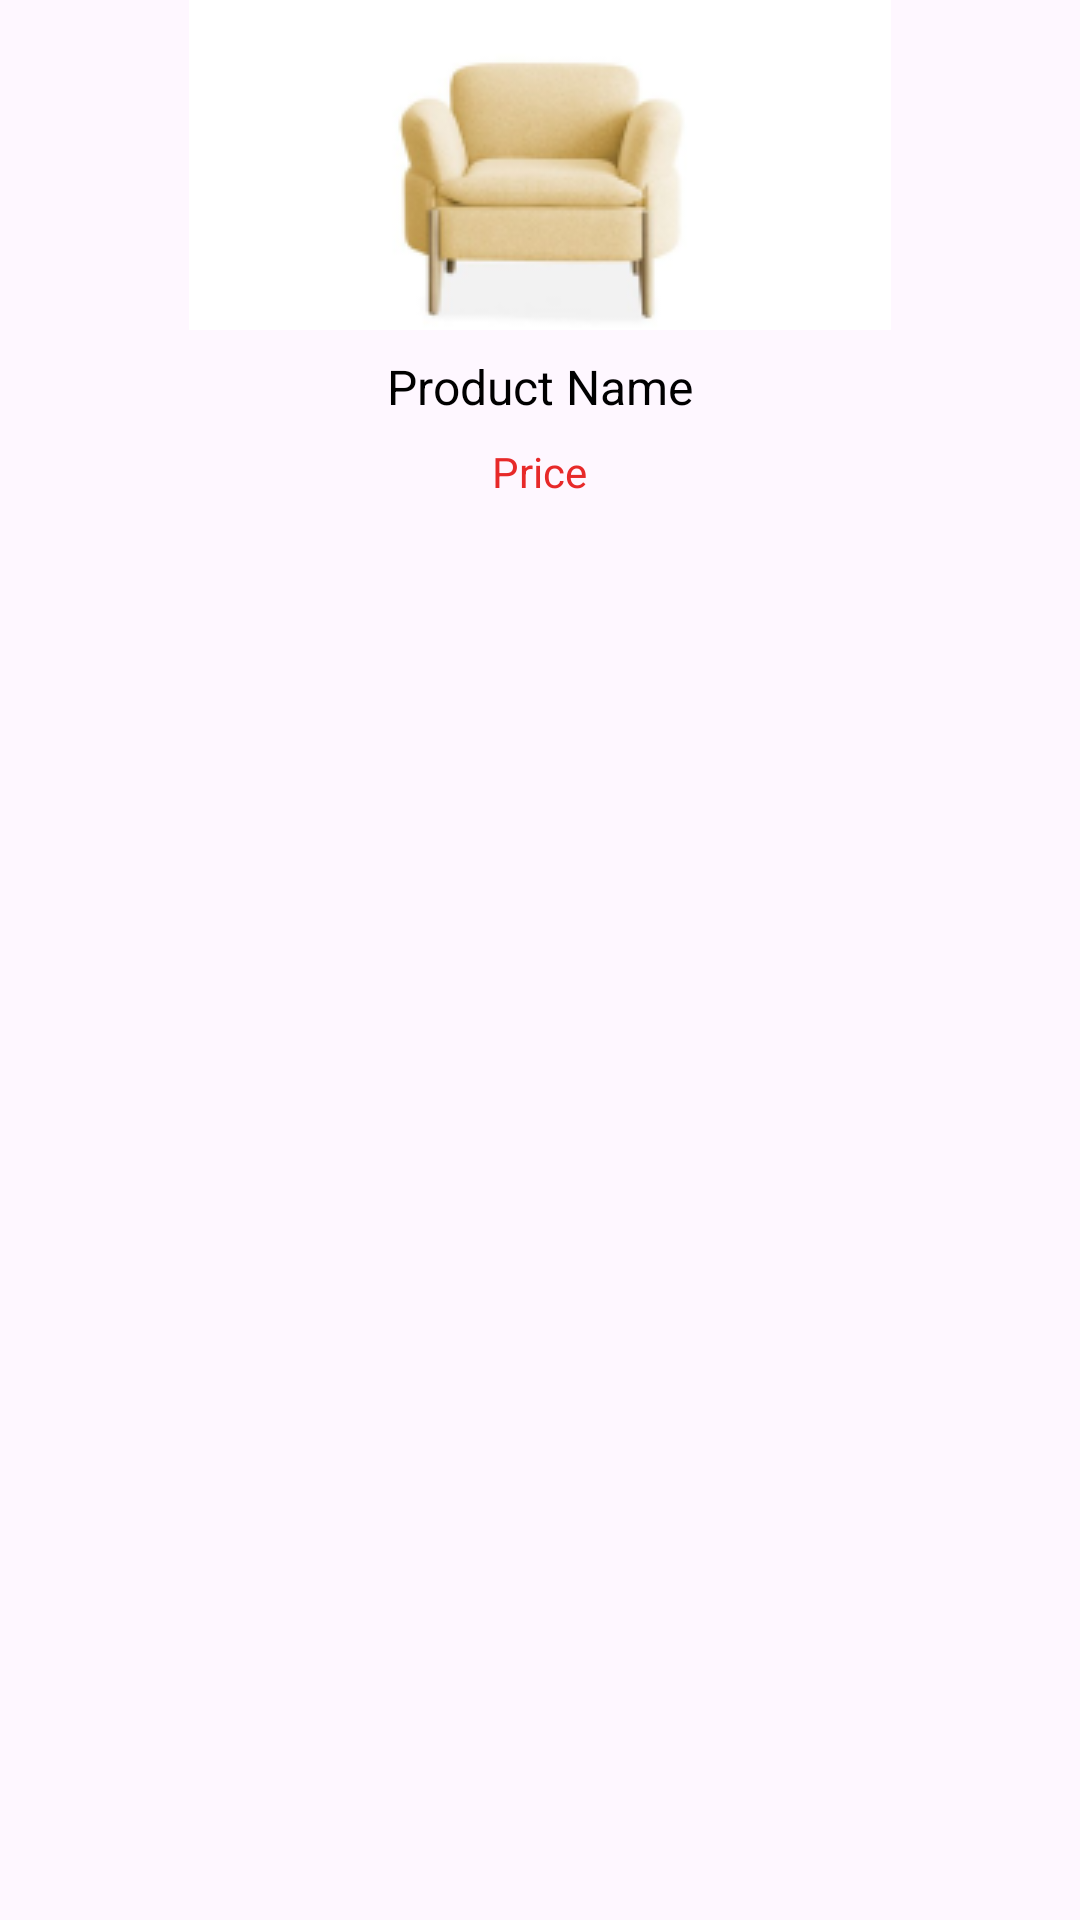

Icons on this 1080 × 1920 Android screen, each with the point to tap as [x,y]:
ghe: [539,190]
